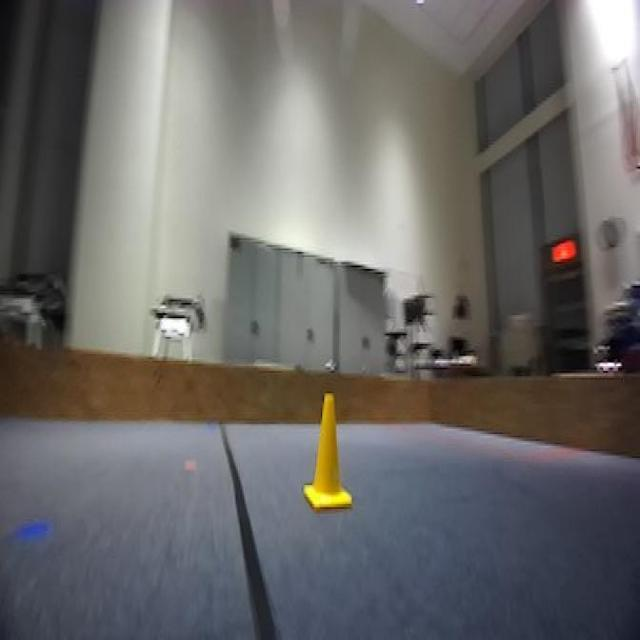frc_cone: (304, 400, 351, 516)
